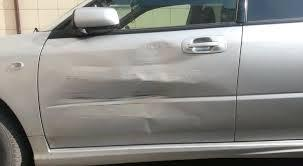doorouter-dent: (58, 38, 217, 141)
